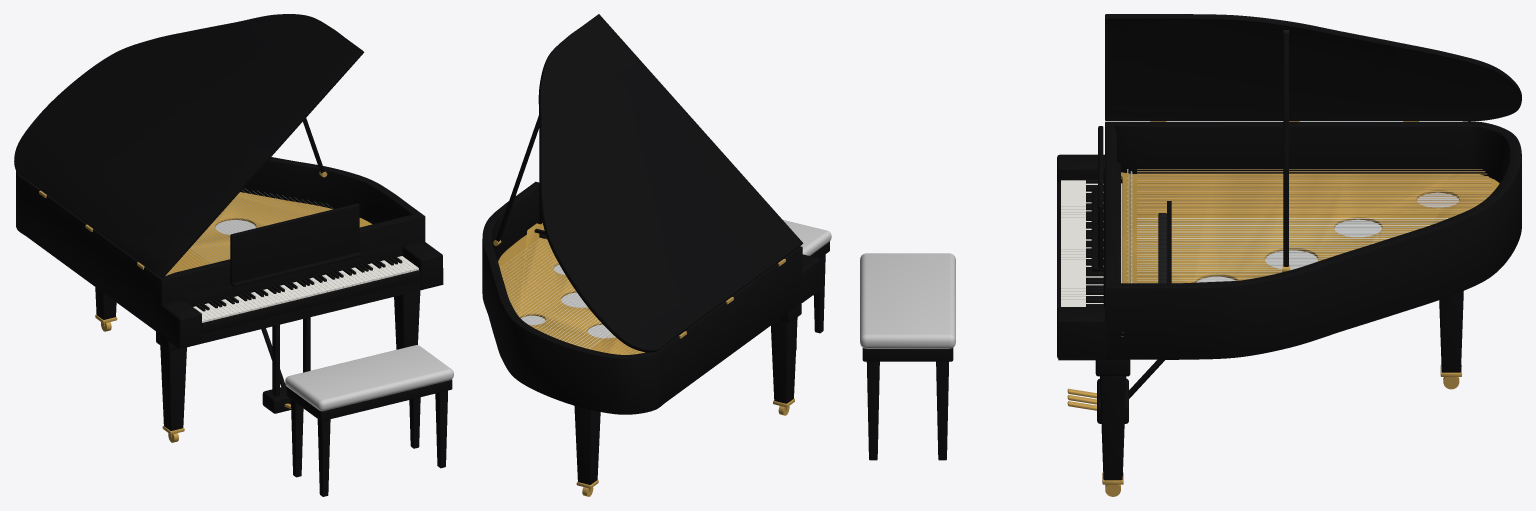
The model's file is piano.obj.
3 views of the same model, side by side, from view 1: azimuth 30°, elevation 25°; view 2: azimuth 150°, elevation 25°; view 3: azimuth 270°, elevation 25° (orthographic). The views are drawn at different scales.
Parts seen in each view (by area): view 1: Lid, Grand_Piano_6, Grand_Piano_14, Grand_Piano_8, Grand_Piano_9, Grand_Piano_10, Grand_Piano_4, Grand_Piano_13; view 2: Lid, Grand_Piano_6, Grand_Piano_8, Grand_Piano_4, Grand_Piano_14, Grand_Piano_2, Lid_Prop_1, Grand_Piano_13; view 3: Grand_Piano_6, Lid, Grand_Piano_8, Grand_Piano_5, Grand_Piano_14, Grand_Piano_4, Grand_Piano_9, Grand_Piano_2, Lid_Prop_1, Grand_Piano_10, Grand_Piano_13.
Boxes of the visible parts, box(x1,y1,x2,y2) form: Lid: box(14, 14, 364, 278); Grand_Piano_6: box(16, 157, 452, 496); Grand_Piano_14: box(285, 345, 453, 411); Grand_Piano_8: box(166, 192, 372, 275); Grand_Piano_9: box(193, 256, 418, 322); Grand_Piano_10: box(196, 256, 402, 311); Grand_Piano_4: box(191, 188, 333, 263); Grand_Piano_13: box(39, 190, 291, 442); Lid: box(538, 14, 803, 352); Grand_Piano_6: box(482, 181, 829, 484); Grand_Piano_8: box(498, 223, 644, 354); Grand_Piano_4: box(501, 238, 610, 348); Grand_Piano_14: box(783, 220, 831, 255); Grand_Piano_2: box(521, 264, 615, 338); Lid_Prop_1: box(495, 115, 539, 241); Grand_Piano_13: box(576, 259, 794, 496); Grand_Piano_6: box(862, 121, 1521, 480); Lid: box(1105, 14, 1521, 121); Grand_Piano_8: box(1121, 172, 1499, 336); Grand_Piano_5: box(1137, 169, 1492, 214); Grand_Piano_14: box(860, 253, 955, 348); Grand_Piano_4: box(1137, 218, 1448, 283); Grand_Piano_9: box(1061, 180, 1103, 306); Grand_Piano_2: box(1121, 183, 1458, 283); Lid_Prop_1: box(1283, 33, 1288, 266); Grand_Piano_10: box(1086, 179, 1103, 306); Grand_Piano_13: box(1067, 121, 1461, 496).
Bounding box in the file's own units: 1.49 × 1.87 × 2.49.
